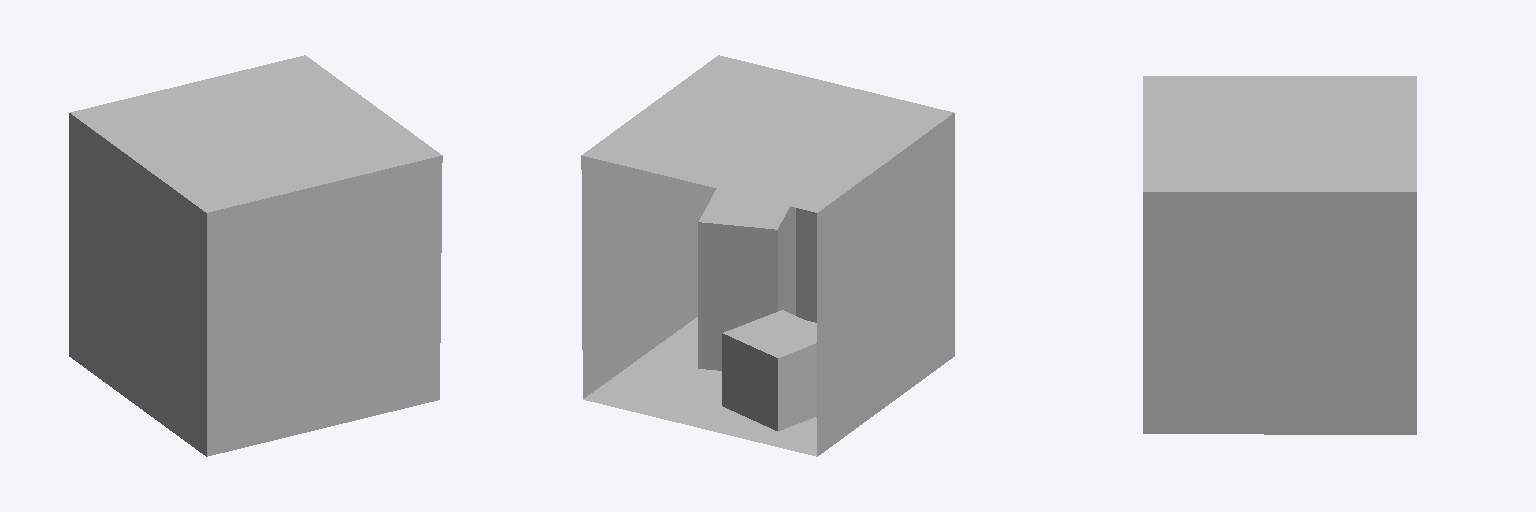
The model's file is big_triangles.obj.
The picture shows the model from 3 angles: view 1: azimuth 30°, elevation 25°; view 2: azimuth 150°, elevation 25°; view 3: azimuth 270°, elevation 25°; orthographic projection.
Visible parts, largest first — view 1: back_wall, green_wall, ceiling; view 2: green_wall, ceiling, red_wall, tall_block, floor, short_block, back_wall; view 3: red_wall, ceiling.
Boxes of the visible parts, x1=… form: back_wall: x1=207, y1=155, x2=442, y2=456; green_wall: x1=69, y1=113, x2=206, y2=456; ceiling: x1=70, y1=55, x2=441, y2=212; green_wall: x1=817, y1=113, x2=954, y2=456; ceiling: x1=582, y1=55, x2=953, y2=212; red_wall: x1=581, y1=155, x2=716, y2=398; tall_block: x1=698, y1=189, x2=795, y2=370; floor: x1=583, y1=317, x2=816, y2=456; short_block: x1=722, y1=310, x2=816, y2=431; back_wall: x1=796, y1=208, x2=816, y2=322; red_wall: x1=1143, y1=192, x2=1416, y2=434; ceiling: x1=1143, y1=76, x2=1416, y2=191.
Size of the model in its own units: 556 by 549 by 559.